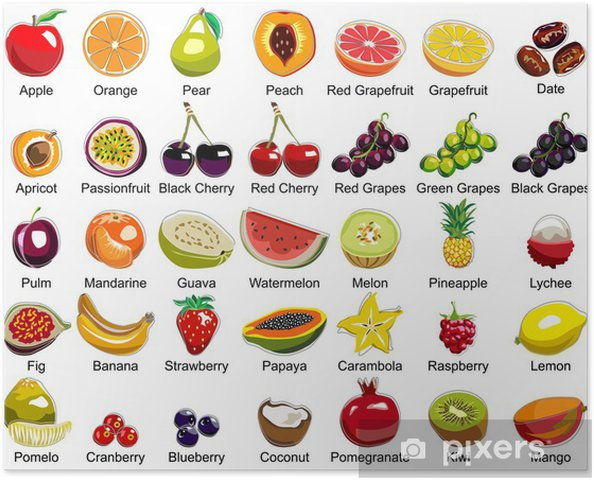elma: (3, 23, 63, 75)
